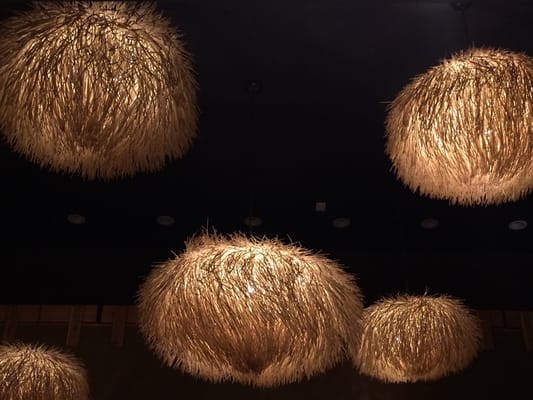pizza: (0, 340, 93, 400)
